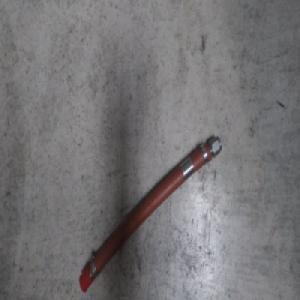Hose: (78, 130, 224, 293)
